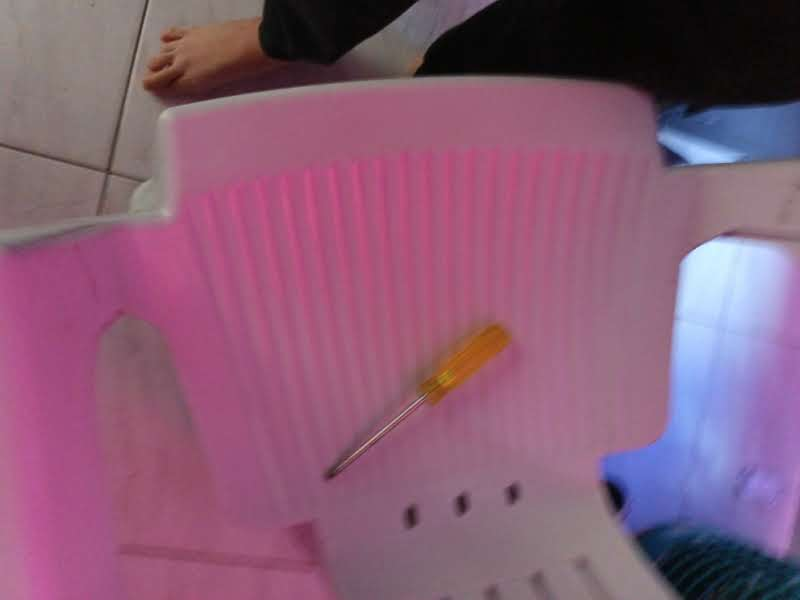Destornillador: (325, 324, 509, 478)
